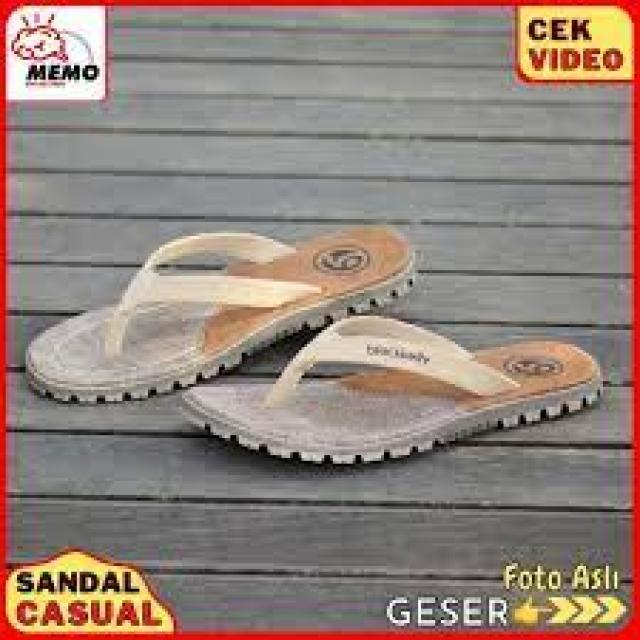Sandals: (9, 172, 633, 540)
